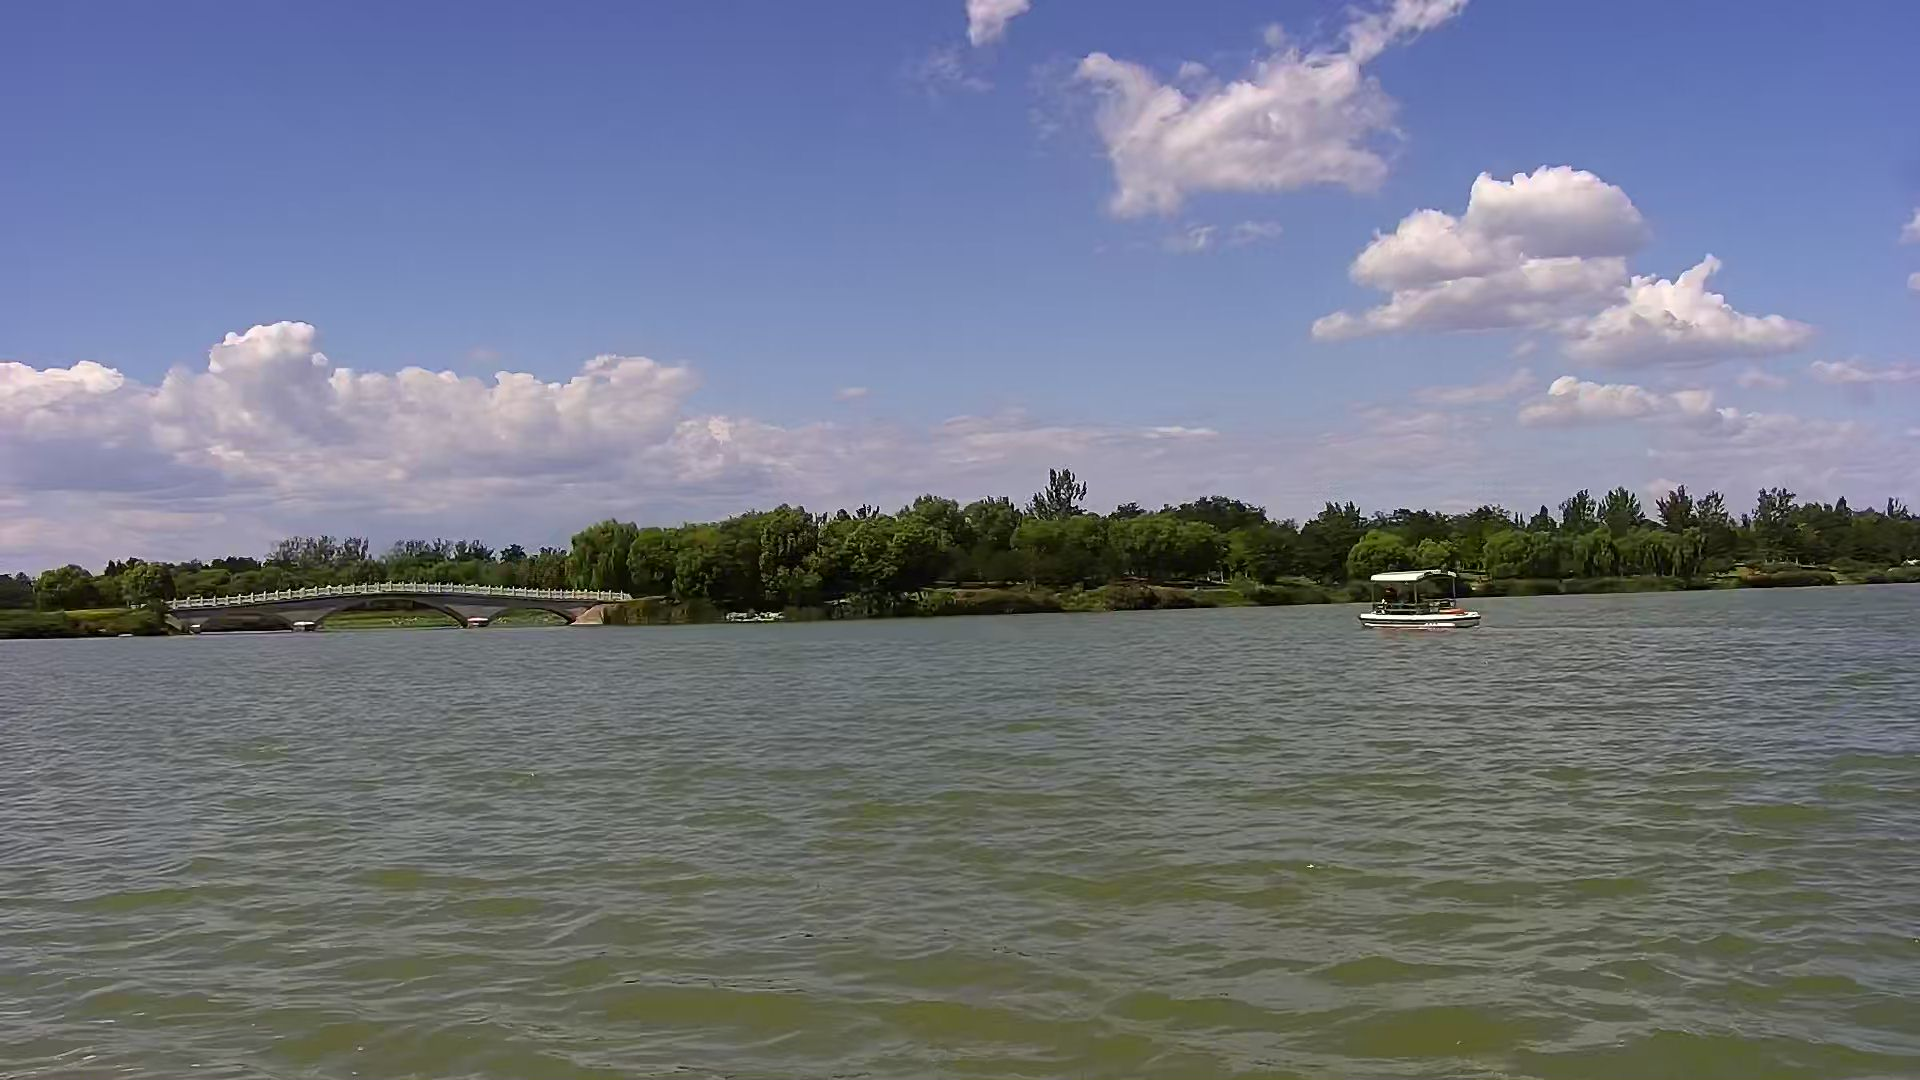boat: (1356, 564, 1484, 632)
bridge: (167, 583, 604, 628)
